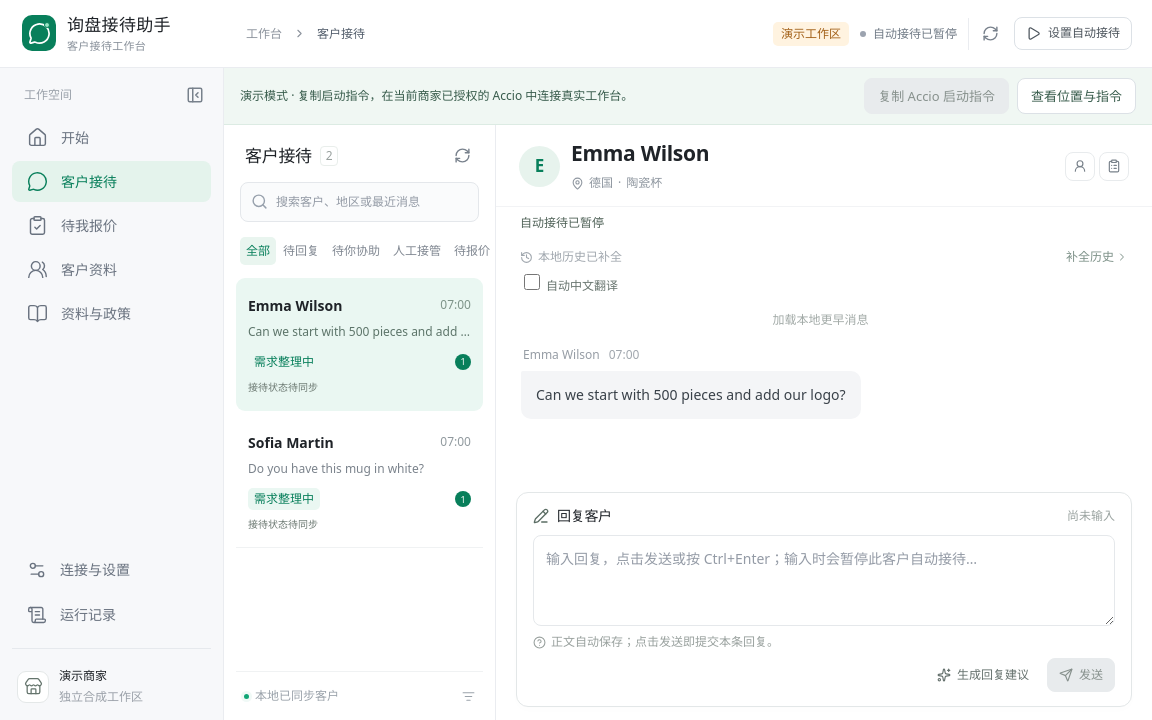
Test: seller-side reply activity › shows a real queued/running job without inventing chat messages or sending
Expected: the text box named "回复正文" is shown, [533, 535, 1115, 626]
Click the button "生成回复建议" at [983, 675], box [925, 658, 1041, 692]
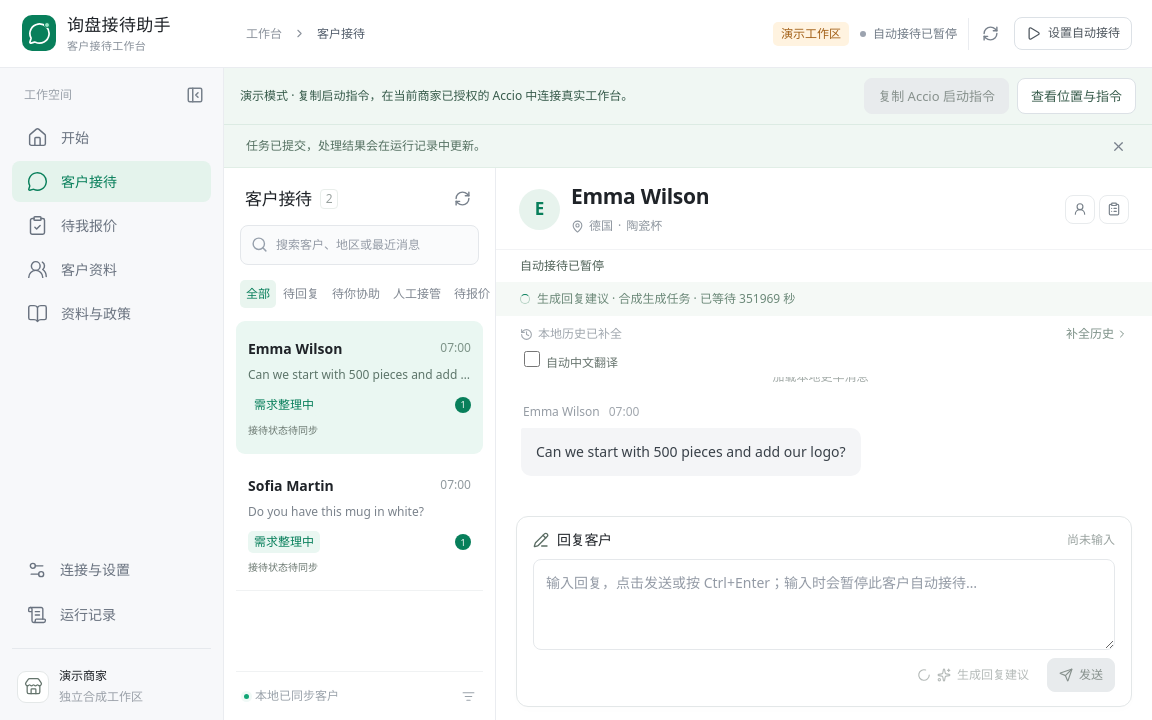
Expected: the text box named "回复正文" is empty, [533, 559, 1115, 650]
Now the button "生成回复建议" is disabled, box [905, 658, 1041, 692]
